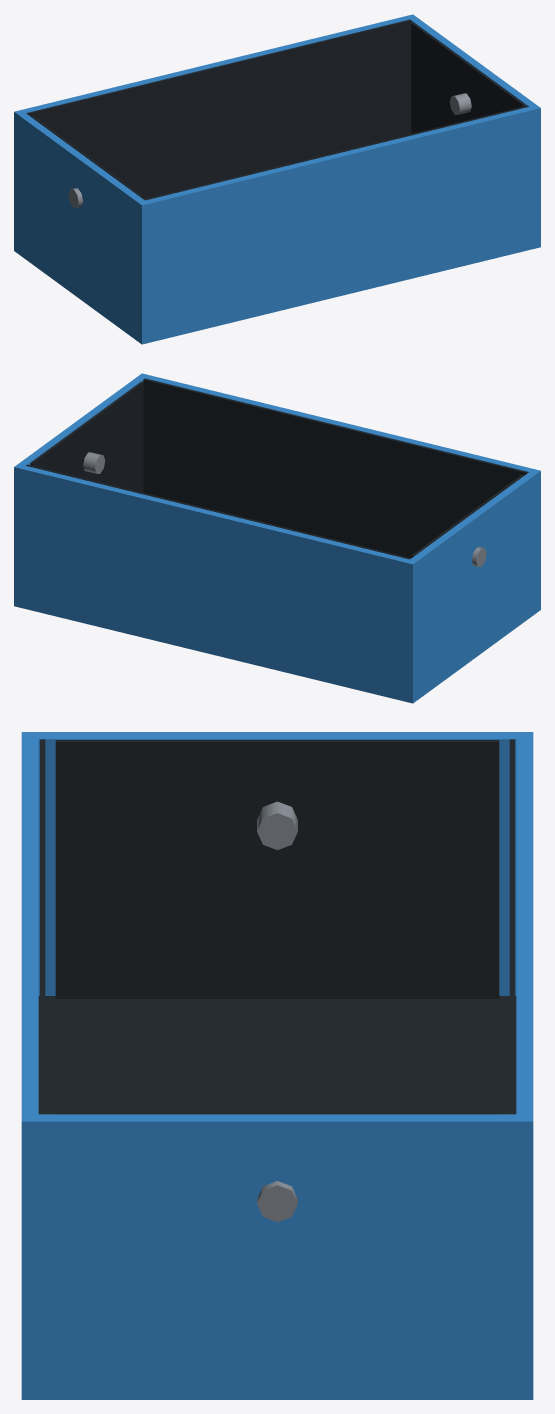
The model's file is absetz-3.glb.
3 views of the same model, one above another, from view 1: azimuth 30°, elevation 25°; view 2: azimuth 150°, elevation 25°; view 3: azimuth 270°, elevation 25° (orthographic). The views are drawn at different scales.
Bounding box in the file's own units: 2.76 × 0.99 × 1.5.
